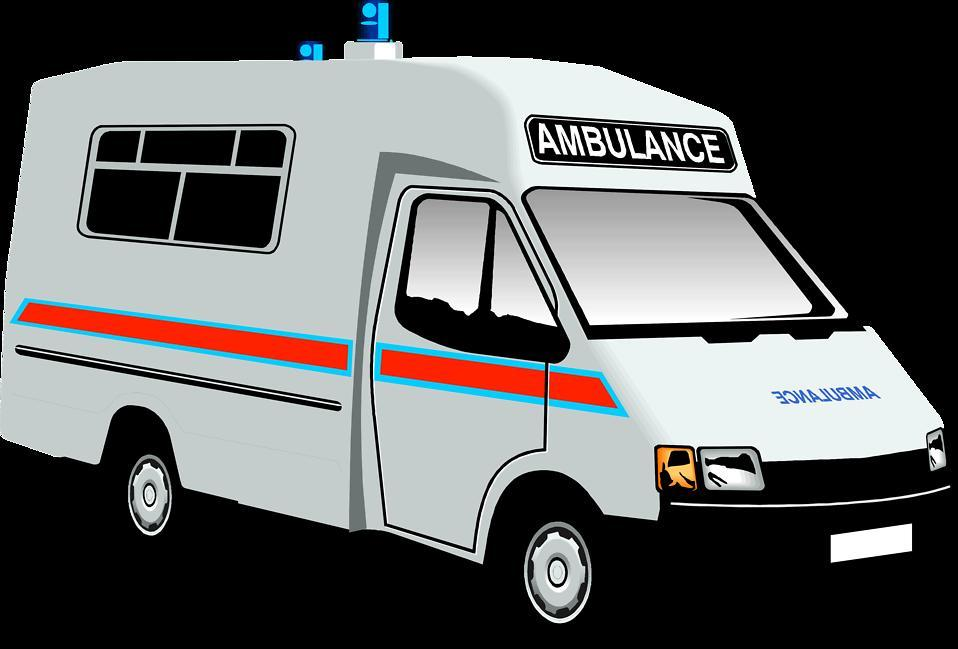Ambulance: (526, 120, 747, 176), (762, 386, 886, 408)
